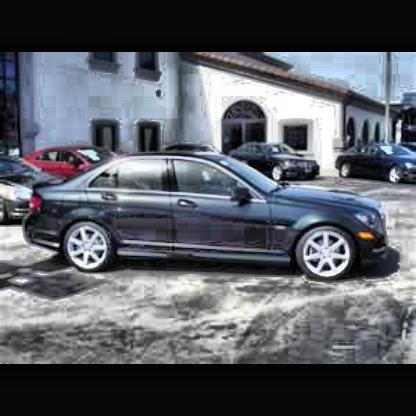Mercedes-Benz C-Class Sedan 2012: (25, 150, 392, 283)
